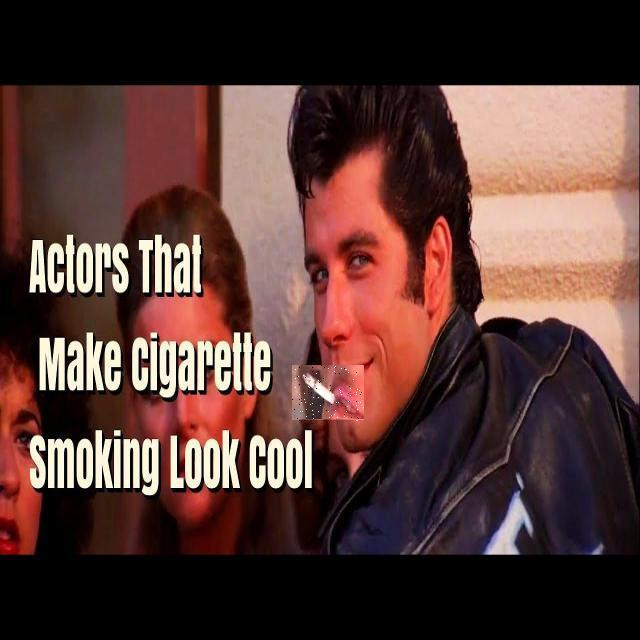smoking: (292, 366, 364, 422)
